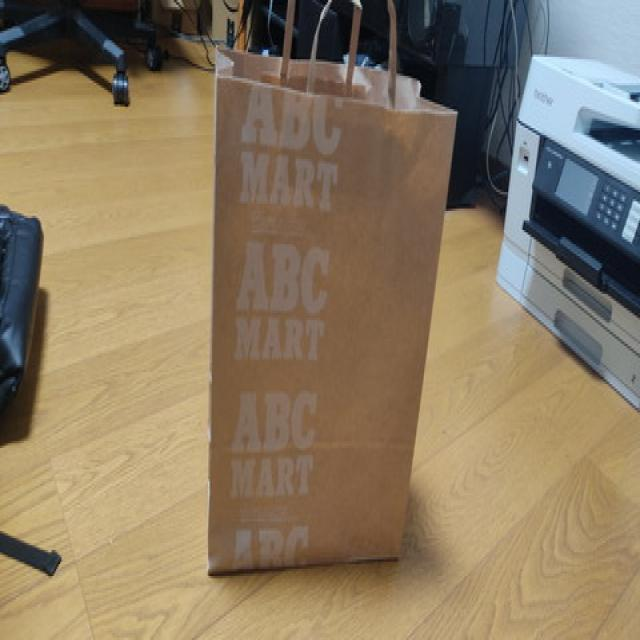paper bag: (206, 0, 461, 580)
